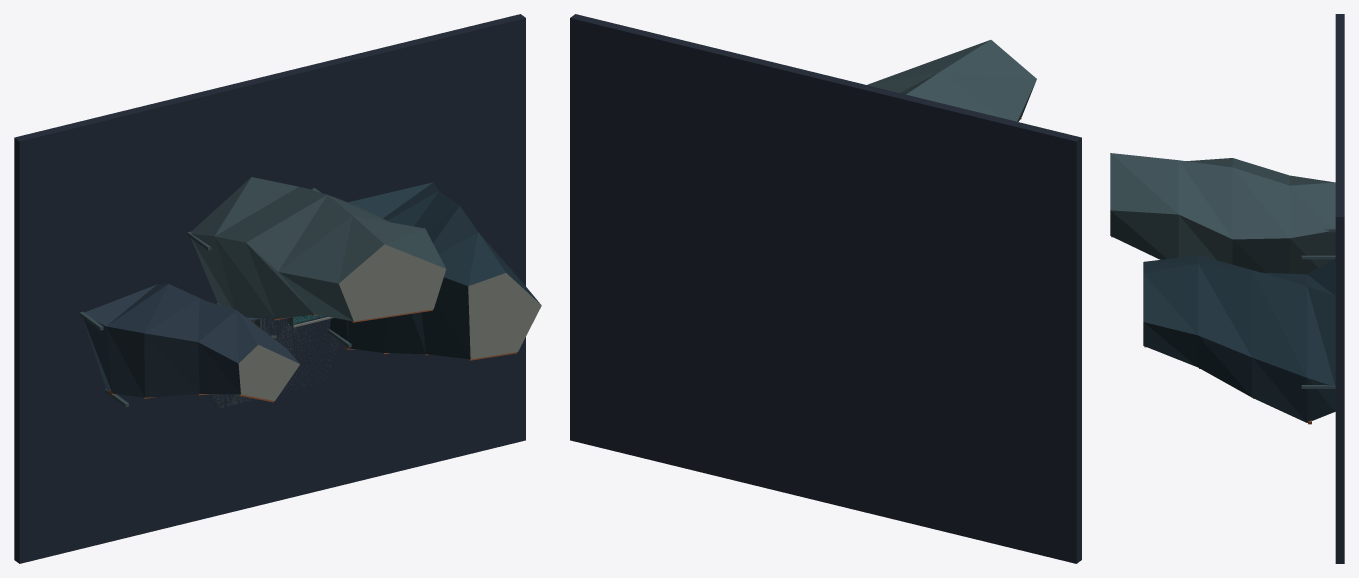
The model's file is a77_authored_real_section.obj.
3 views of the same model, side by side, from view 1: azimuth 30°, elevation 25°; view 2: azimuth 150°, elevation 25°; view 3: azimuth 270°, elevation 25° (orthographic). The views are drawn at different scales.
Parts seen in each view (by area): view 1: grp1577, grp502, grp390, grp1585, grp718; view 2: grp1577, grp502; view 3: grp1585, grp502, grp1577.
Boxes of the visible parts, left/top/right/bottom form: grp1577: left=14, top=14, right=525, bottom=563; grp502: left=79, top=177, right=445, bottom=407; grp390: left=83, top=284, right=299, bottom=397; grp1585: left=330, top=182, right=540, bottom=359; grp718: left=238, top=244, right=541, bottom=400; grp1577: left=570, top=14, right=1081, bottom=563; grp502: left=867, top=40, right=1036, bottom=121; grp1585: left=1143, top=255, right=1335, bottom=422; grp502: left=1110, top=153, right=1335, bottom=388; grp1577: left=1335, top=14, right=1344, bottom=563.
Size of the model in its own units: 640 by 510 by 312.
